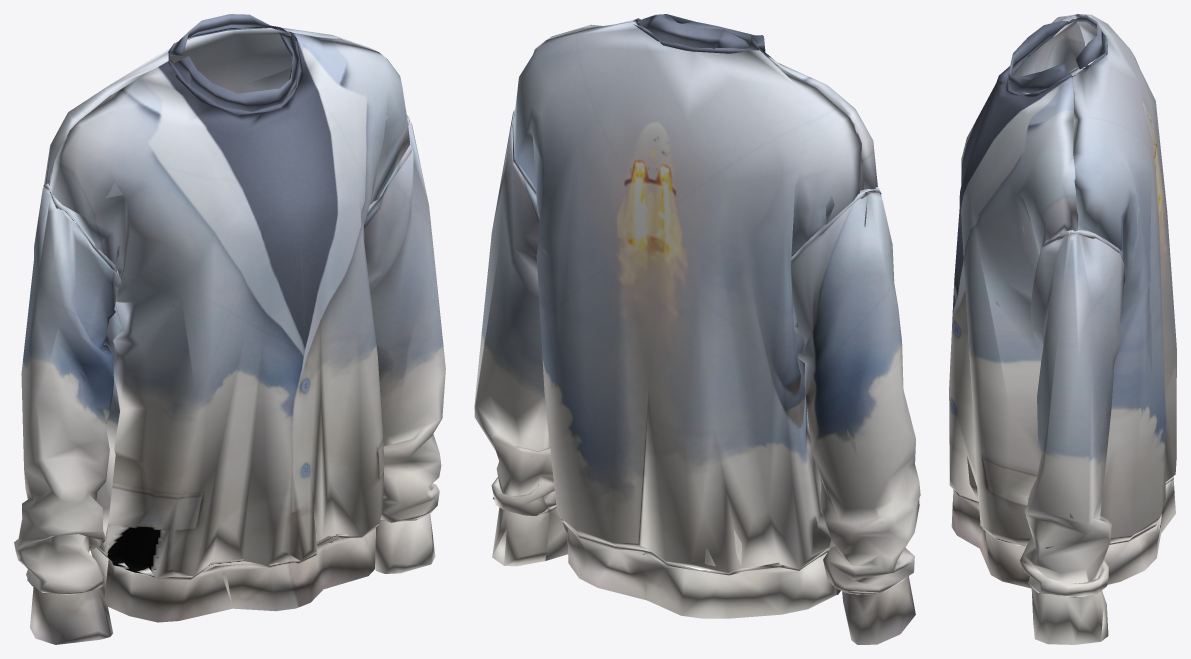
Rendered from longsleeve2a-frame.glb.
3 views of the same model, side by side, from view 1: azimuth 30°, elevation 25°; view 2: azimuth 150°, elevation 25°; view 3: azimuth 270°, elevation 25° (orthographic). The views are drawn at different scales.
Parts seen in each view (by area): view 1: dress.001; view 2: dress.001; view 3: dress.001.
Boxes of the visible parts, <box> form: dress.001: <box>14,14,445,644</box>; dress.001: <box>474,14,920,644</box>; dress.001: <box>949,14,1176,644</box>.
Size of the model in its own units: 1.19 by 1.54 by 0.598.
2 materials, 2 textured.
